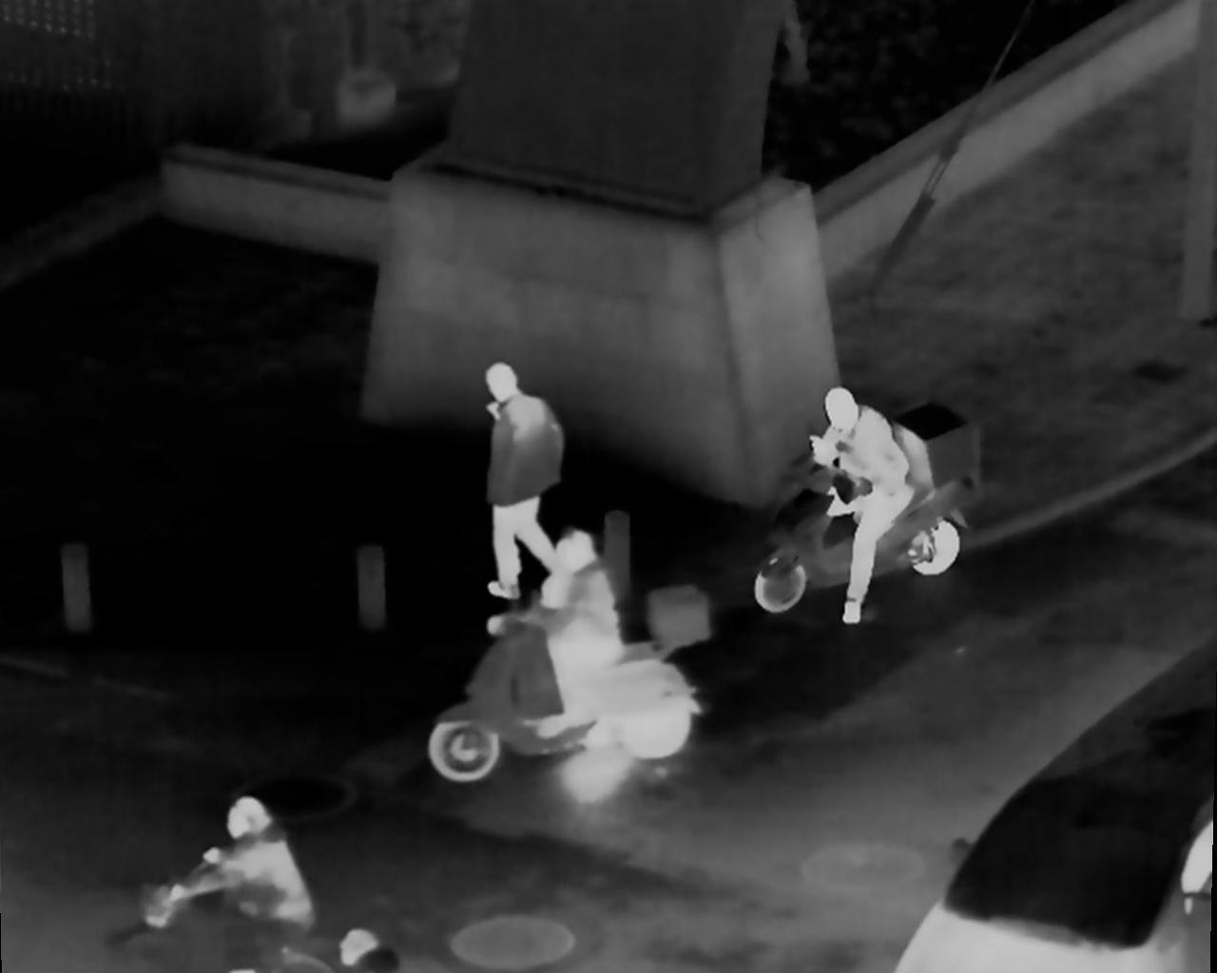person: (458, 351, 576, 610), (503, 540, 630, 769), (167, 804, 324, 953), (819, 387, 918, 620)
